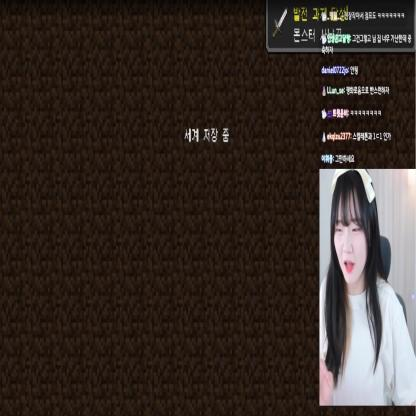streamer: (320, 170, 416, 405)
